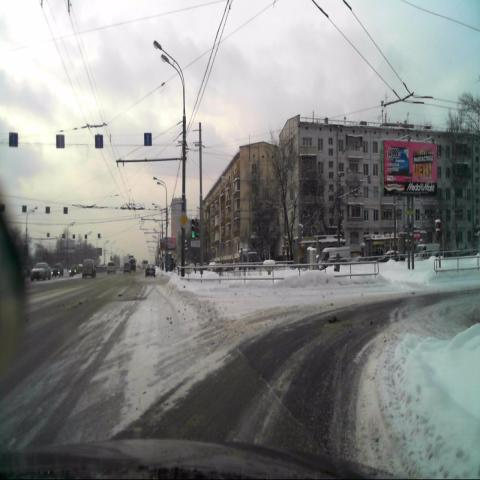2_1: (179, 212, 189, 229)
5_15_2: (9, 132, 17, 146), (56, 134, 64, 148), (95, 135, 103, 148), (144, 132, 152, 144)
